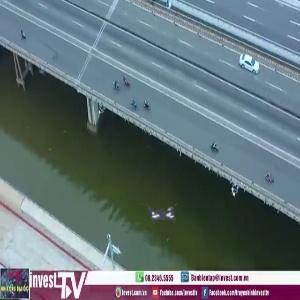drone: (127, 177, 200, 250)
